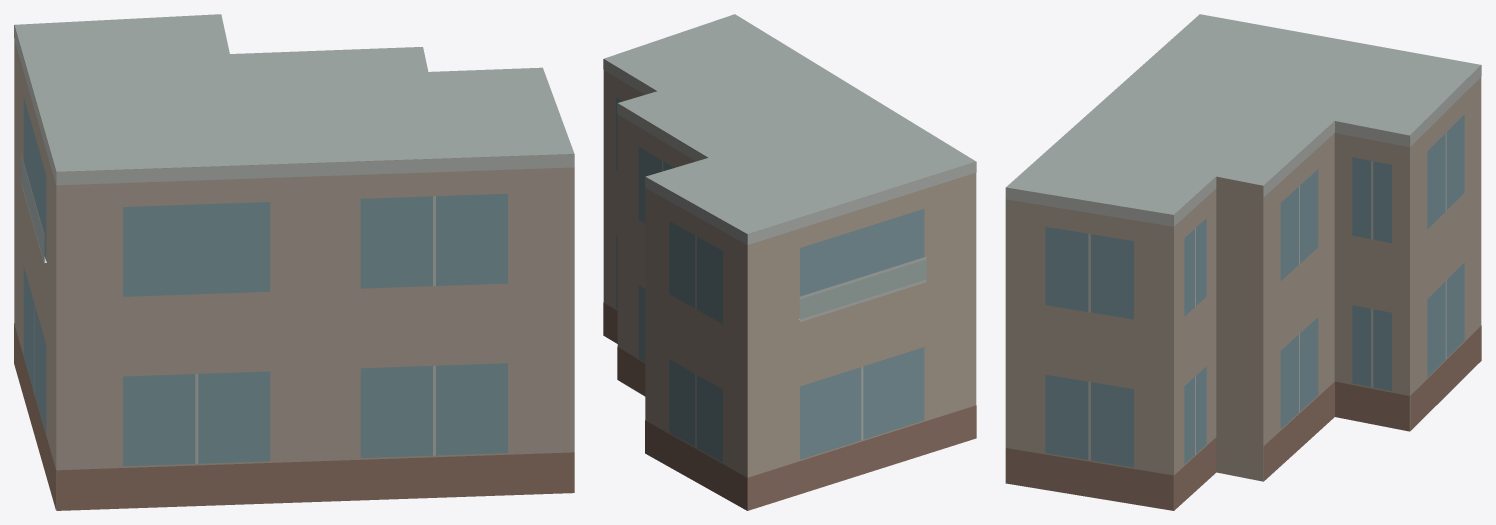
The model's file is survey-upis-32820692.glb.
The picture shows the model from 3 angles, left to right: view 1: azimuth 30°, elevation 25°; view 2: azimuth 150°, elevation 25°; view 3: azimuth 270°, elevation 25°; orthographic projection. The views are drawn at different scales.
Visible parts, largest first — view 1: survey-upis-32820692.tmp; view 2: survey-upis-32820692.tmp; view 3: survey-upis-32820692.tmp.
Part boxes in pixels (x1,y1,x2,y2): survey-upis-32820692.tmp: (14,14,574,510); survey-upis-32820692.tmp: (603,14,976,510); survey-upis-32820692.tmp: (1005,14,1481,510).
Bounding box in the file's own units: 8.89 × 6.1 × 8.89.
